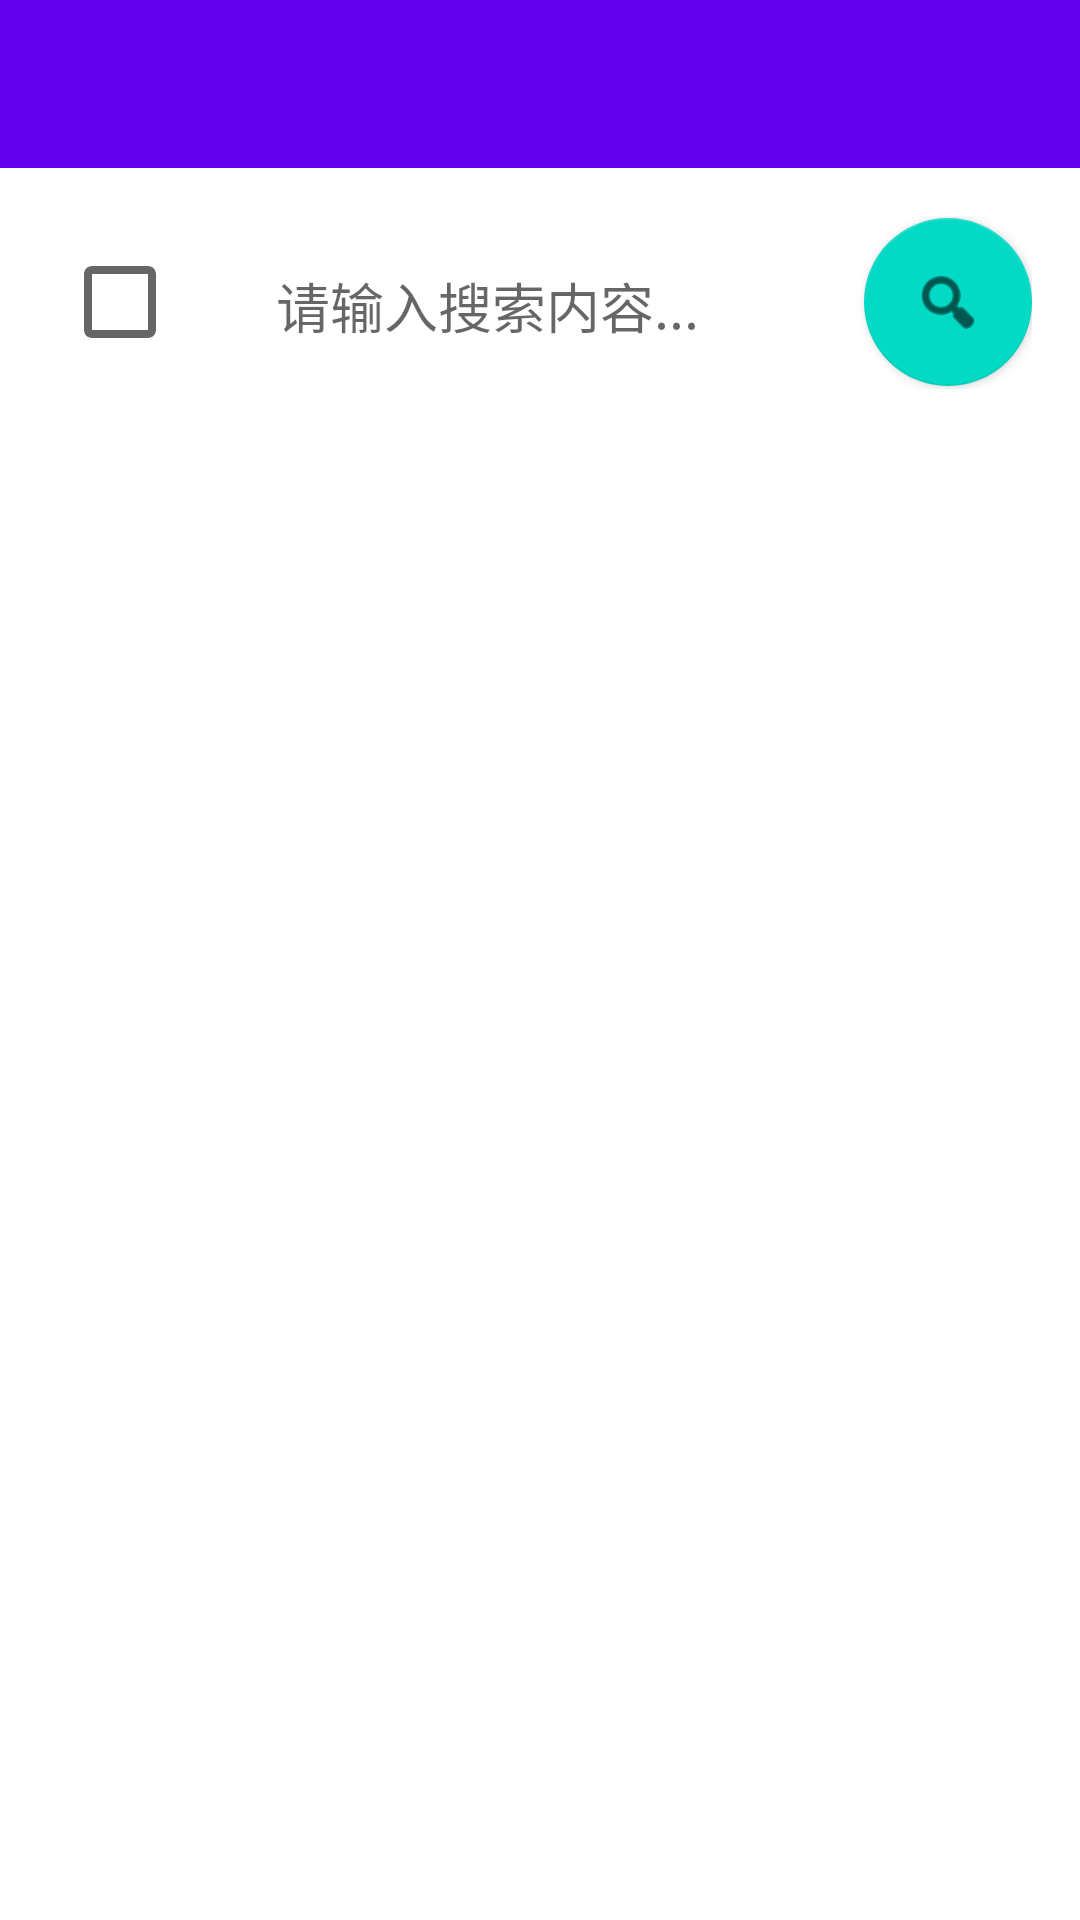

Where to tap for icons on this 1080px x 1920px app screen, as (x=x, y=y):
search: (x=948, y=302)
select all checkbox: (x=120, y=302)
